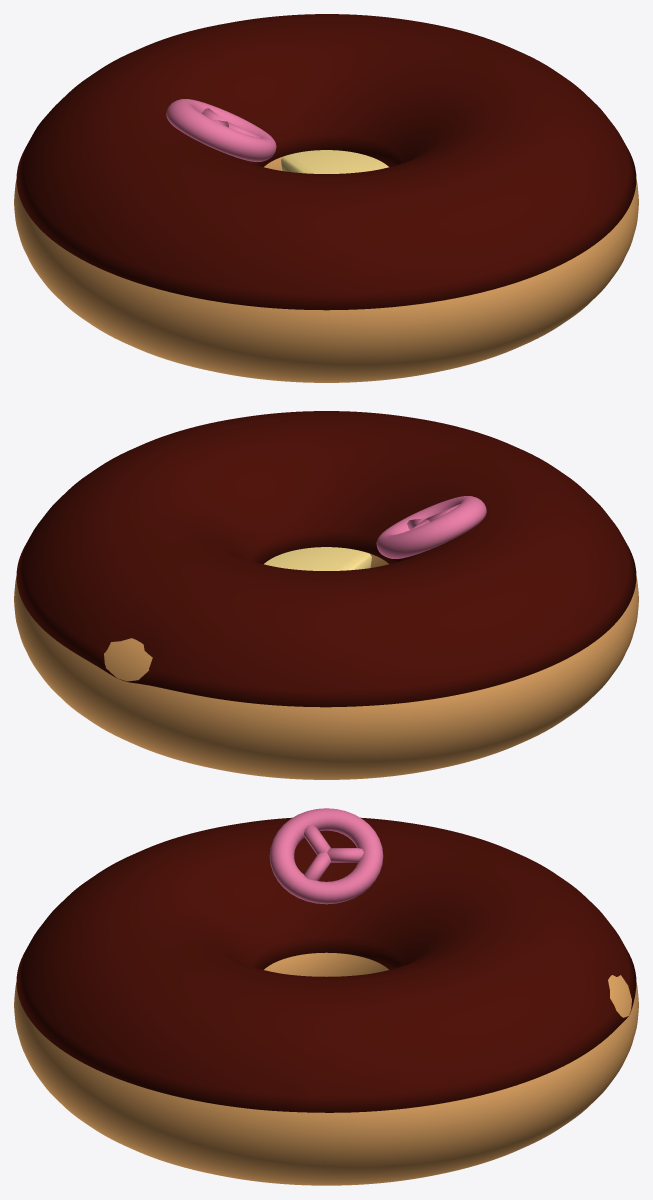
The model's file is car.glb.
3 renders of one model, top to bottom at view 1: azimuth 30°, elevation 25°; view 2: azimuth 150°, elevation 25°; view 3: azimuth 270°, elevation 25°, orthographic.
Visible parts, largest first — view 1: Torus.001, Torus, Torus.002, Cube; view 2: Torus.001, Torus, Torus.002, Cube; view 3: Torus.001, Torus, Torus.002.
Boxes of the visible parts, x1,y1,x2,y2 form: Torus.001: (16,14,636,310); Torus: (14,156,638,382); Torus.002: (166,99,276,161); Cube: (281,150,388,173); Torus.001: (16,411,636,707); Torus: (14,553,638,779); Torus.002: (376,496,486,558); Cube: (264,547,371,570); Torus.001: (16,817,636,1112); Torus: (14,952,638,1185); Torus.002: (269,808,383,904).
Bounding box in the file's own units: 3.28 × 1.24 × 3.28.
